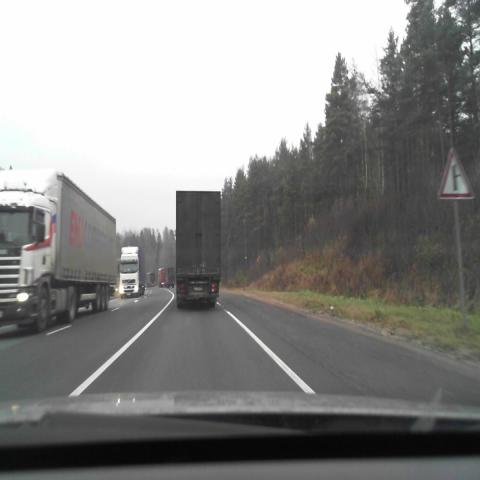2_3_2: (438, 148, 474, 199)
